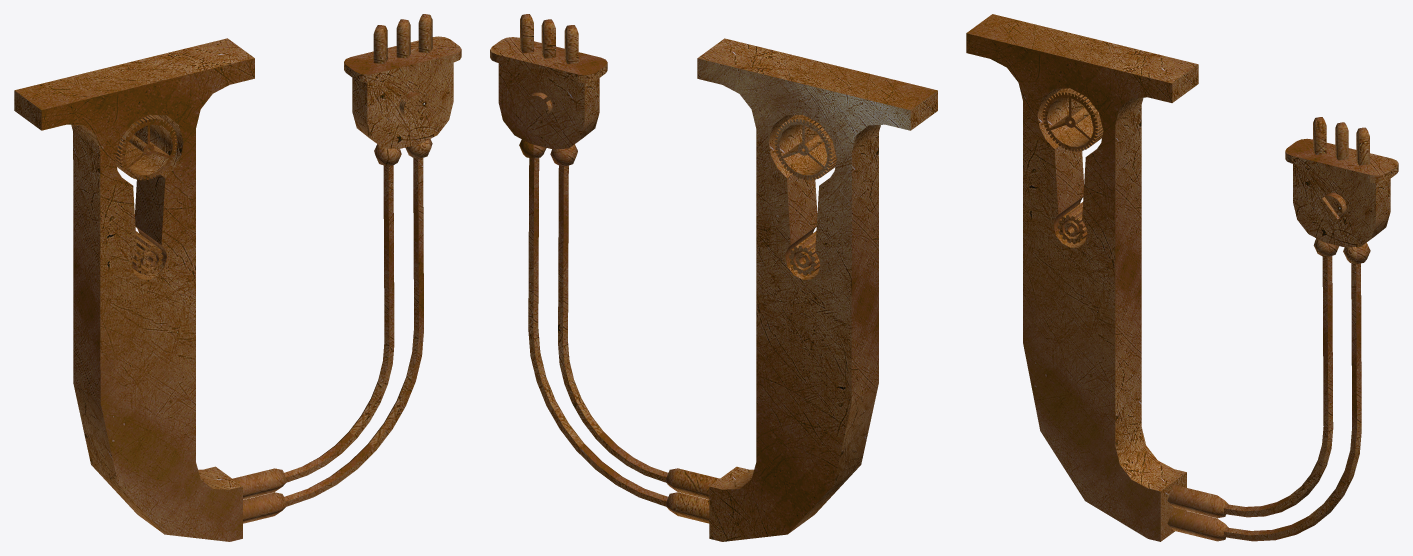
3 renders of one model, left to right at view 1: azimuth 30°, elevation 25°; view 2: azimuth 150°, elevation 25°; view 3: azimuth 330°, elevation 25°, orthographic. The views are drawn at different scales.
Parts seen in each view (by area): view 1: U, Tube_362, Tube_359, Cogwheel_226, Capsule_029, Capsule_018, Cogwheel_222, Capsule_030, Capsule_022, Capsule_023, Screw_022; view 2: U, Tube_362, Tube_359, Cogwheel_226, Capsule_029, Capsule_018, Cogwheel_222, Capsule_022, Capsule_023, Screw_022; view 3: U, Tube_362, Tube_359, Cogwheel_226, Capsule_029, Capsule_018, Cogwheel_222, Screw_022.
Part boxes in pixels (left/top/right/bottom): U: left=14, top=36, right=461, bottom=541; Tube_362: left=284, top=158, right=423, bottom=506; Tube_359: left=284, top=165, right=394, bottom=482; Cogwheel_226: left=115, top=114, right=177, bottom=180; Capsule_029: left=232, top=468, right=287, bottom=499; Capsule_018: left=243, top=492, right=287, bottom=523; Cogwheel_222: left=132, top=231, right=163, bottom=275; Capsule_030: left=418, top=14, right=432, bottom=53; Capsule_022: left=396, top=19, right=410, bottom=58; Capsule_023: left=373, top=25, right=387, bottom=64; Screw_022: left=399, top=92, right=427, bottom=120; U: left=490, top=37, right=937, bottom=541; Tube_362: left=528, top=158, right=668, bottom=506; Tube_359: left=558, top=165, right=668, bottom=482; Cogwheel_226: left=774, top=114, right=836, bottom=180; Capsule_029: left=665, top=468, right=719, bottom=499; Capsule_018: left=665, top=492, right=709, bottom=523; Cogwheel_222: left=789, top=231, right=820, bottom=275; Capsule_022: left=541, top=19, right=555, bottom=58; Capsule_023: left=564, top=25, right=578, bottom=64; Screw_022: left=525, top=92, right=552, bottom=120; U: left=966, top=14, right=1398, bottom=541; Tube_362: left=1223, top=263, right=1361, bottom=541; Tube_359: left=1223, top=256, right=1333, bottom=517; Cogwheel_226: left=1042, top=88, right=1103, bottom=151; Capsule_029: left=1167, top=485, right=1228, bottom=518; Capsule_018: left=1167, top=508, right=1228, bottom=541; Cogwheel_222: left=1057, top=202, right=1087, bottom=243; Screw_022: left=1319, top=192, right=1346, bottom=220.
Size of the model in its own units: 90.64 by 96.82 by 10.
Materials: 1 (1 with a texture image).
